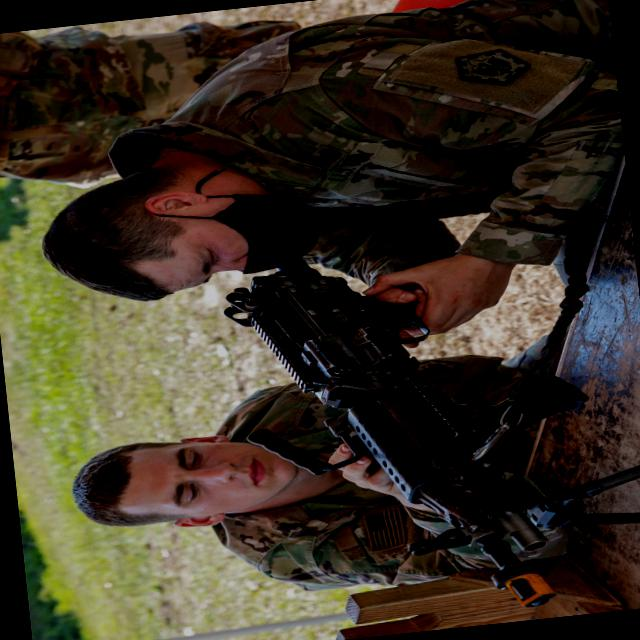long weapon: (182, 257, 635, 618)
